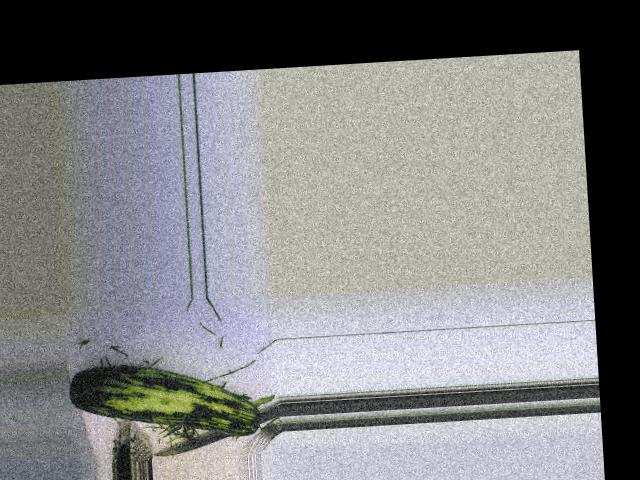cucumber: (68, 356, 262, 446)
